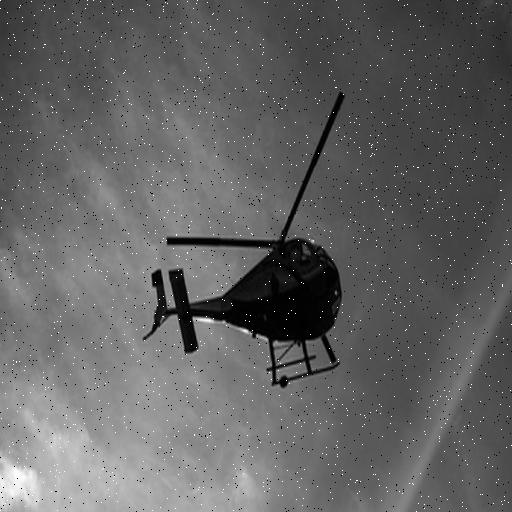helicopter: (144, 94, 353, 389)
